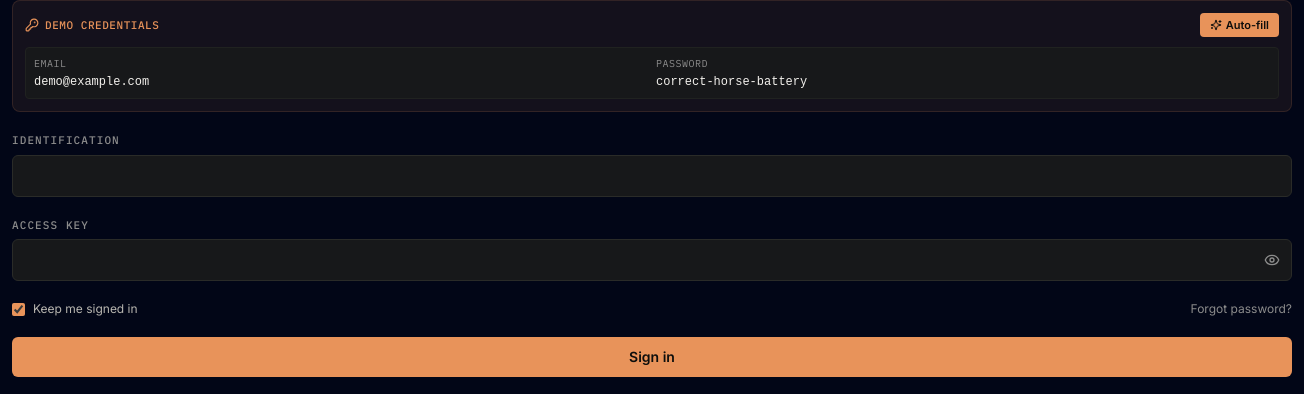
Test: AuthForm Demo Credentials & Auto-fill Integration › renders the Demo Credentials banner and one-click auto-fills credentials
Expected: the text "Demo Credentials" is shown, [45,17,159,33]
Expected: the field labelled "Identification" is empty, [12,154,1292,196]
Click the button "Auto-fill": [1239, 25] box [1200,13,1279,37]
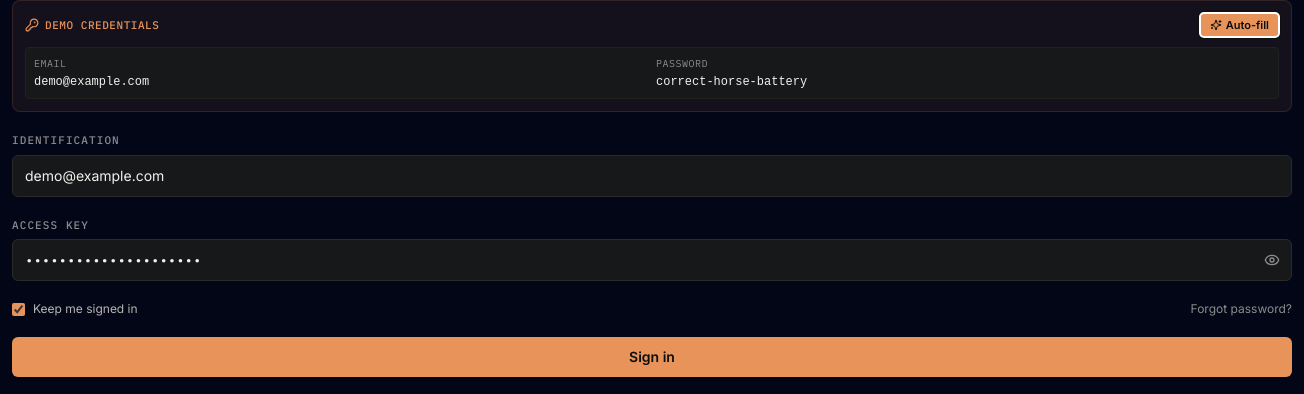
Now the field labelled "Identification" holds "demo@example.com", box [12,154,1292,196]
Now the password field labelled "Access Key" holds "correct-horse-battery", box [12,239,1292,281]
